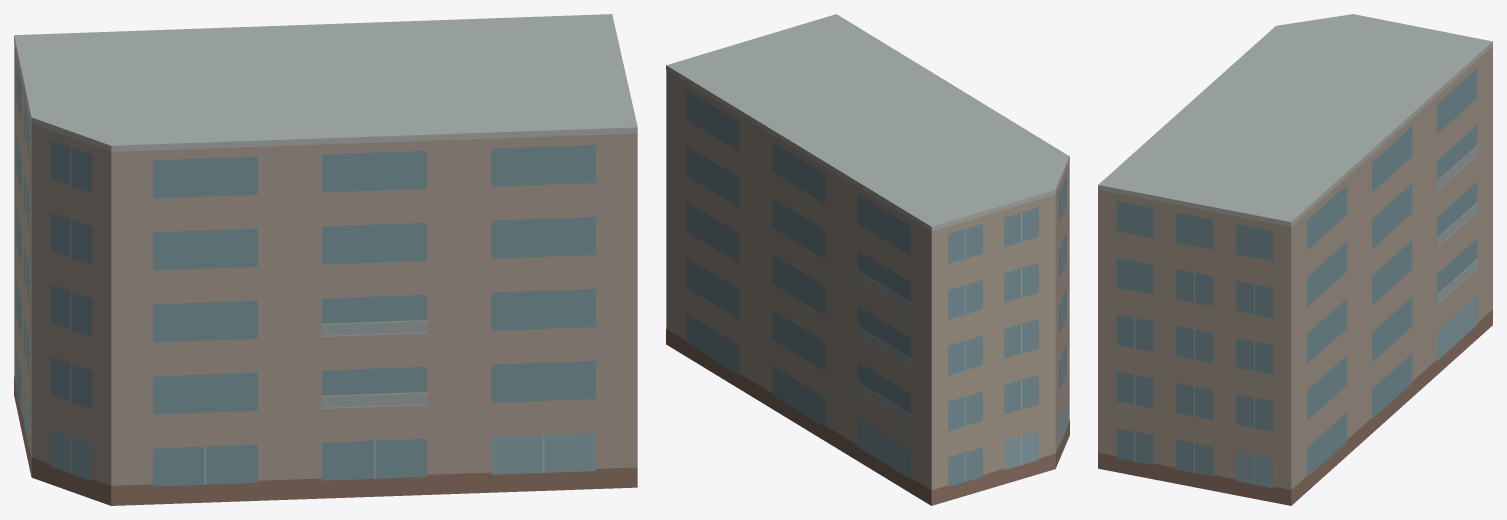
The model's file is survey-upis-33019098.glb.
3 renders of one model, left to right at view 1: azimuth 30°, elevation 25°; view 2: azimuth 150°, elevation 25°; view 3: azimuth 270°, elevation 25°, orthographic. The views are drawn at different scales.
Parts seen in each view (by area): view 1: survey-upis-33019098.tmp; view 2: survey-upis-33019098.tmp; view 3: survey-upis-33019098.tmp.
Part boxes in pixels (x1=…): survey-upis-33019098.tmp: x1=14, y1=14, x2=637, y2=505; survey-upis-33019098.tmp: x1=666, y1=14, x2=1069, y2=505; survey-upis-33019098.tmp: x1=1098, y1=14, x2=1492, y2=505.
Size of the model in its own units: 22.82 by 14.5 by 18.29.
